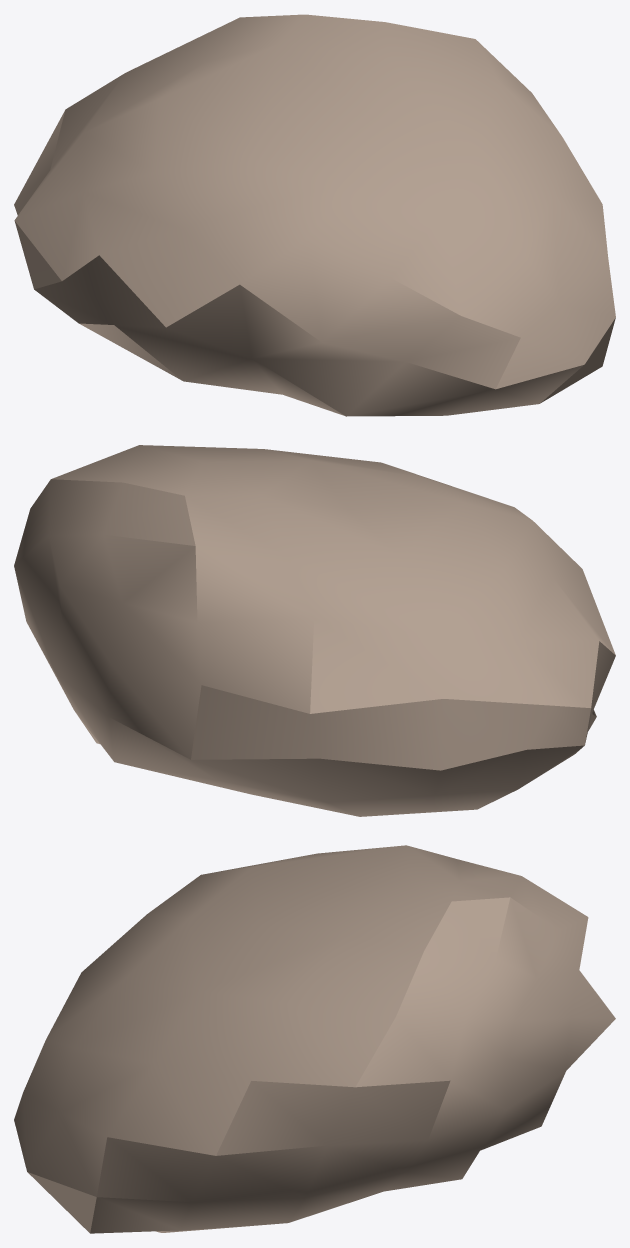
File: C_Rock_4.fbx
The picture shows the model from 3 angles, top to bottom: view 1: azimuth 30°, elevation 25°; view 2: azimuth 150°, elevation 25°; view 3: azimuth 270°, elevation 25°; orthographic projection. The views are drawn at different scales.
Parts seen in each view (by area): view 1: rock.001; view 2: rock.001; view 3: rock.001.
Part boxes in pixels (x1=…): rock.001: x1=14, y1=14, x2=615, y2=416; rock.001: x1=14, y1=445, x2=615, y2=816; rock.001: x1=14, y1=845, x2=615, y2=1233.
Bounding box in the file's own units: 322 × 184 × 324.
